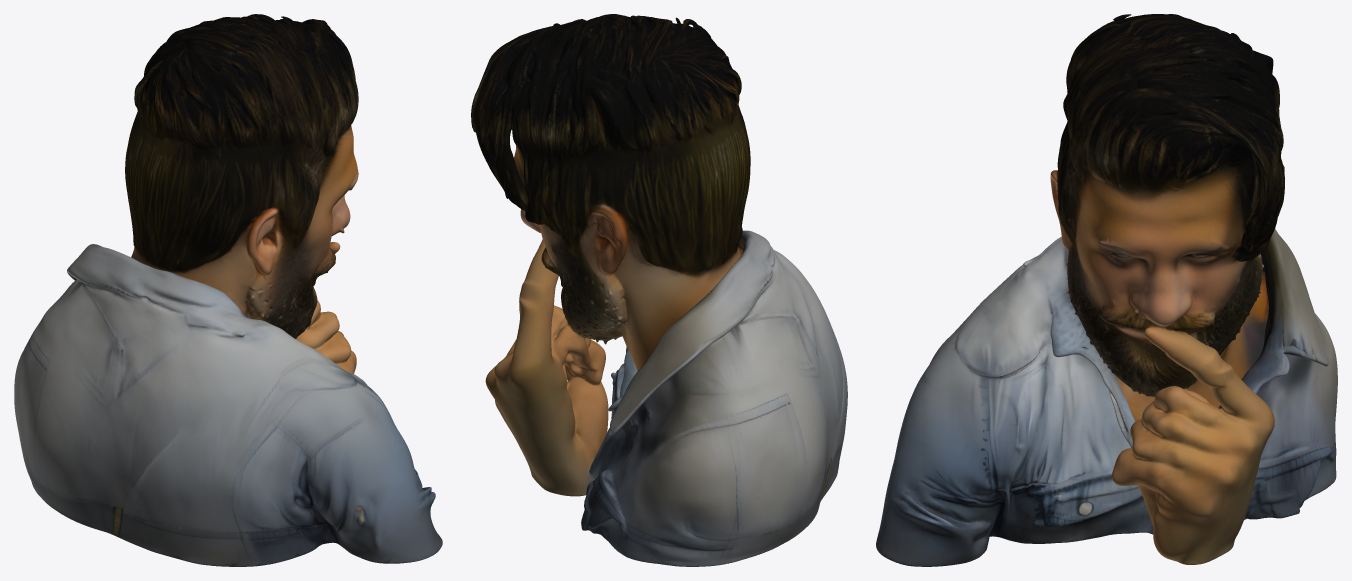
File: tripo_pbr_model_9ff03768-3fa1-_429f2170_opt.glb
3 views of the same model, side by side, from view 1: azimuth 30°, elevation 25°; view 2: azimuth 150°, elevation 25°; view 3: azimuth 270°, elevation 25° (orthographic). The views are drawn at different scales.
Parts seen in each view (by area): view 1: tripo_node_9ff03768-3fa1-4cd6-978c-b26bb174bb82; view 2: tripo_node_9ff03768-3fa1-4cd6-978c-b26bb174bb82; view 3: tripo_node_9ff03768-3fa1-4cd6-978c-b26bb174bb82.
Boxes of the visible parts, left/top/right/bottom form: tripo_node_9ff03768-3fa1-4cd6-978c-b26bb174bb82: left=14, top=14, right=442, bottom=566; tripo_node_9ff03768-3fa1-4cd6-978c-b26bb174bb82: left=471, top=14, right=847, bottom=566; tripo_node_9ff03768-3fa1-4cd6-978c-b26bb174bb82: left=876, top=14, right=1337, bottom=566.
Bounding box in the file's own units: 0.7109 × 1 × 0.854.
Materials: 1 (1 with a texture image).
